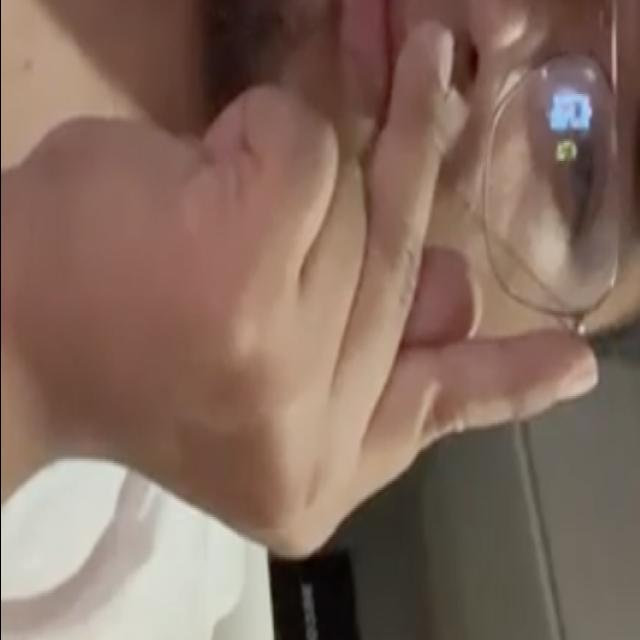P: (3, 11, 607, 583)
